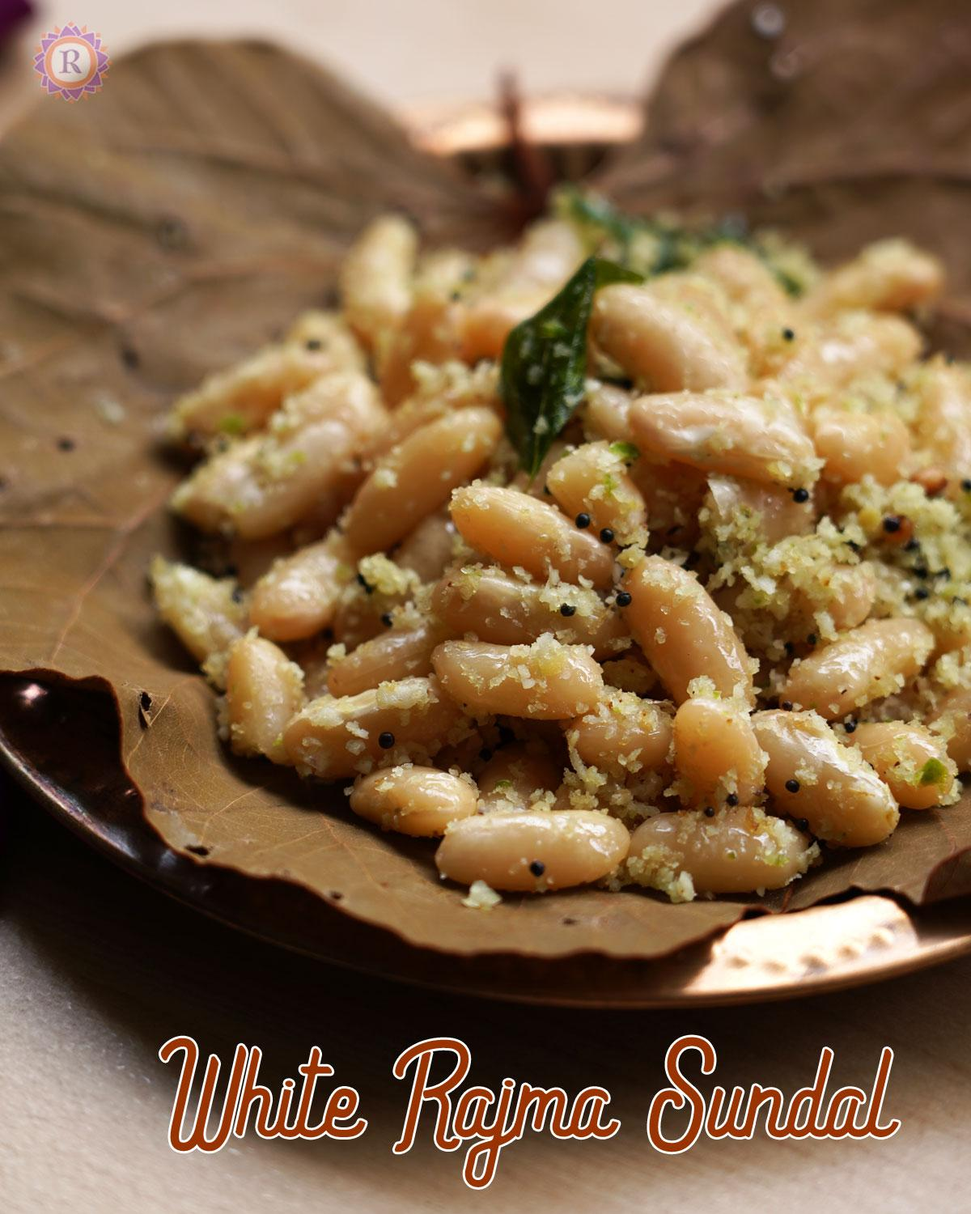rajma: (183, 194, 971, 942)
